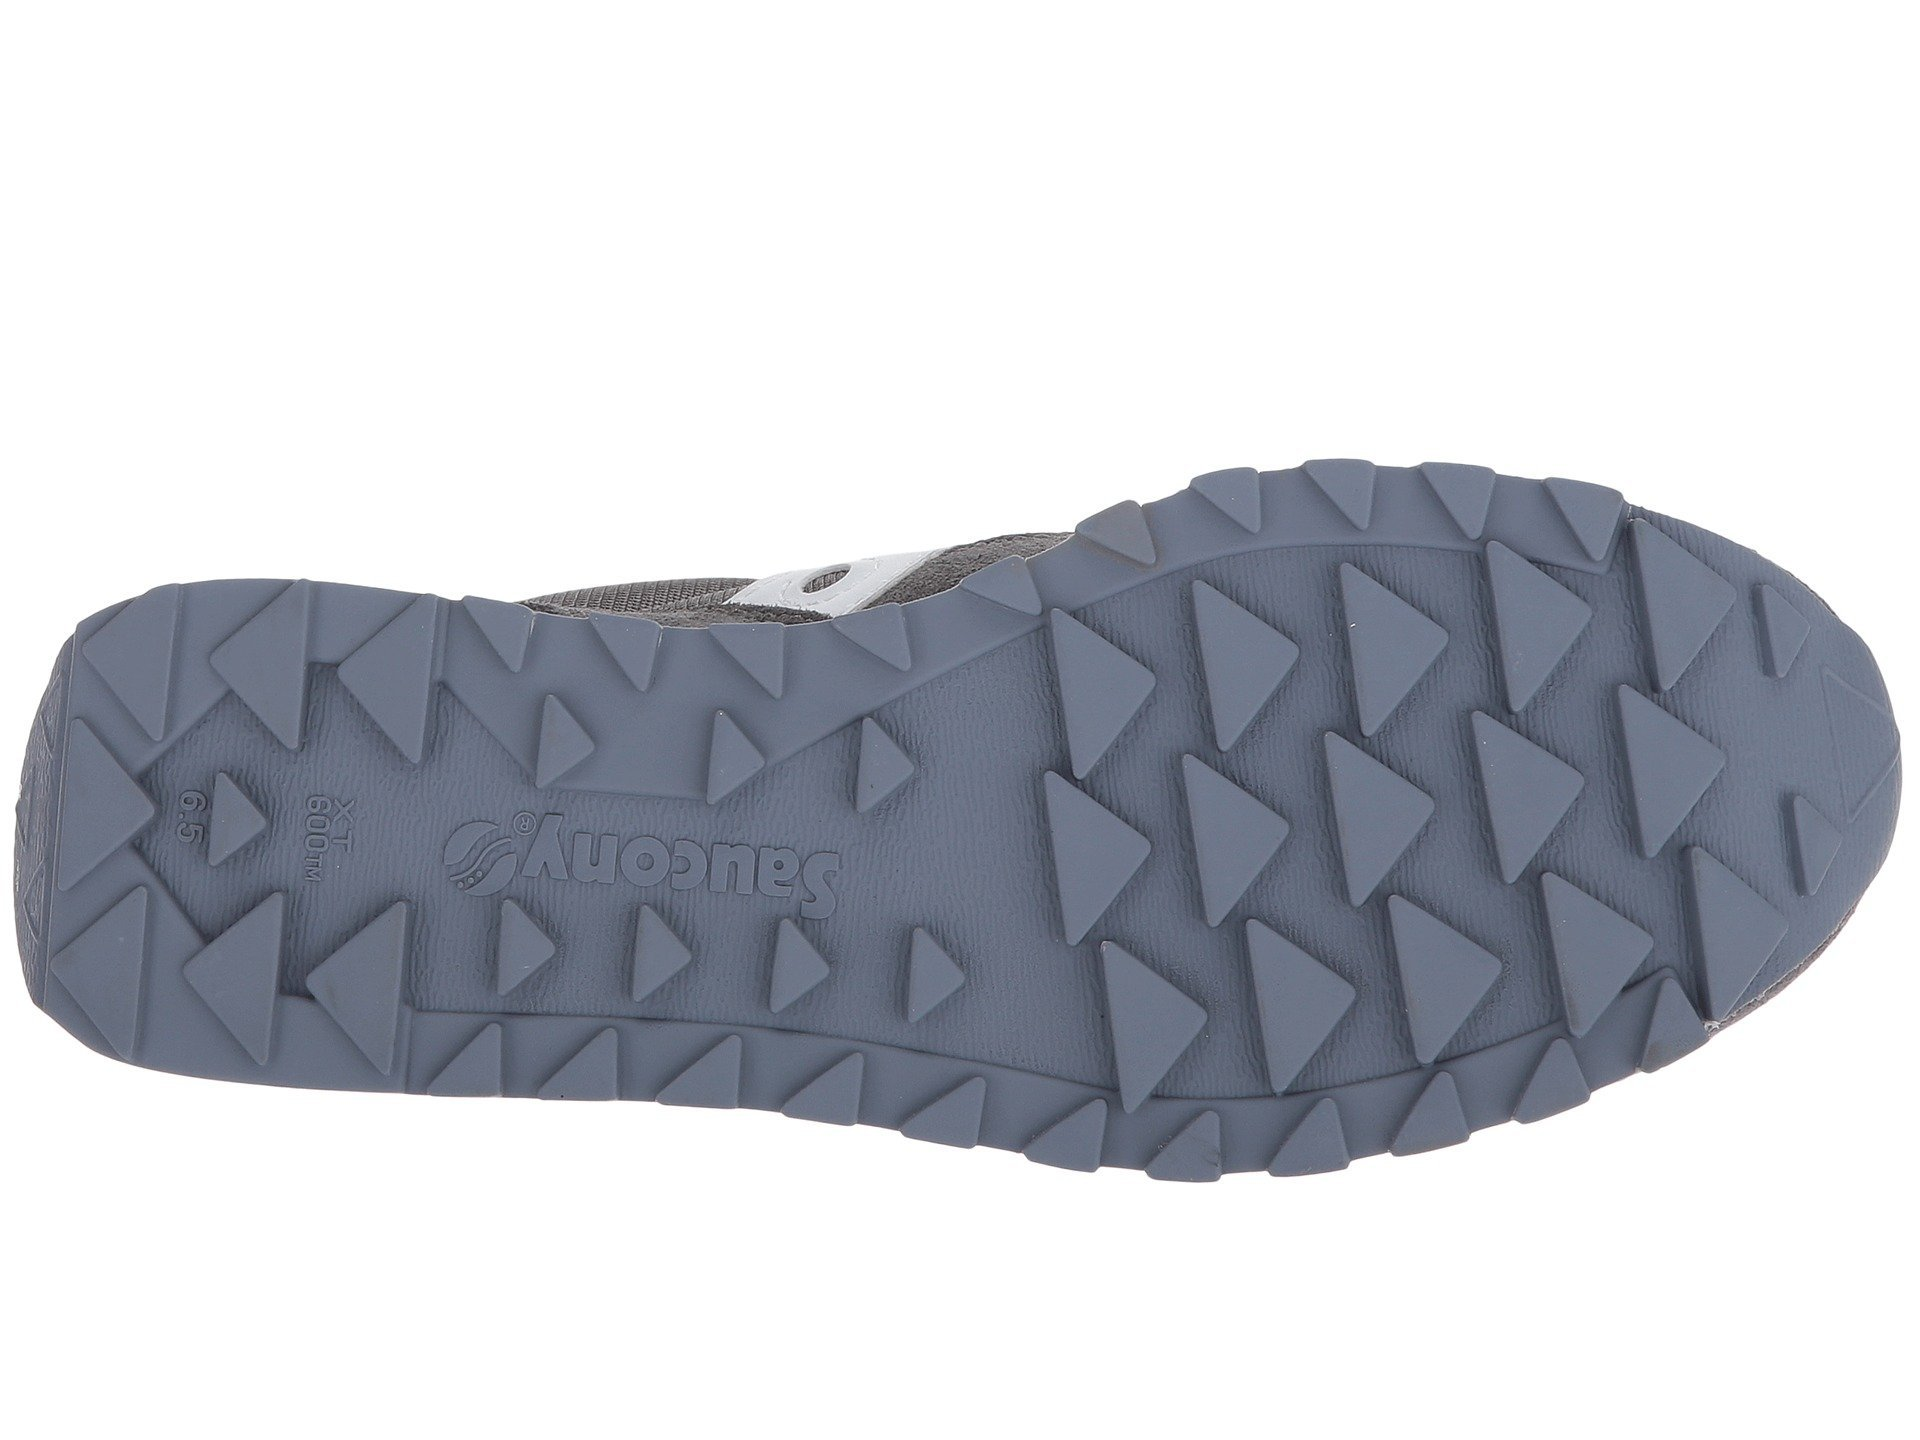circle: (431, 717, 868, 938)
line: (1525, 483, 1873, 864), (431, 717, 868, 938)
text: (63, 620, 423, 988), (431, 717, 868, 938)
triangle: (1020, 561, 1531, 1059), (1525, 483, 1873, 864), (63, 620, 423, 988), (431, 717, 868, 938)
